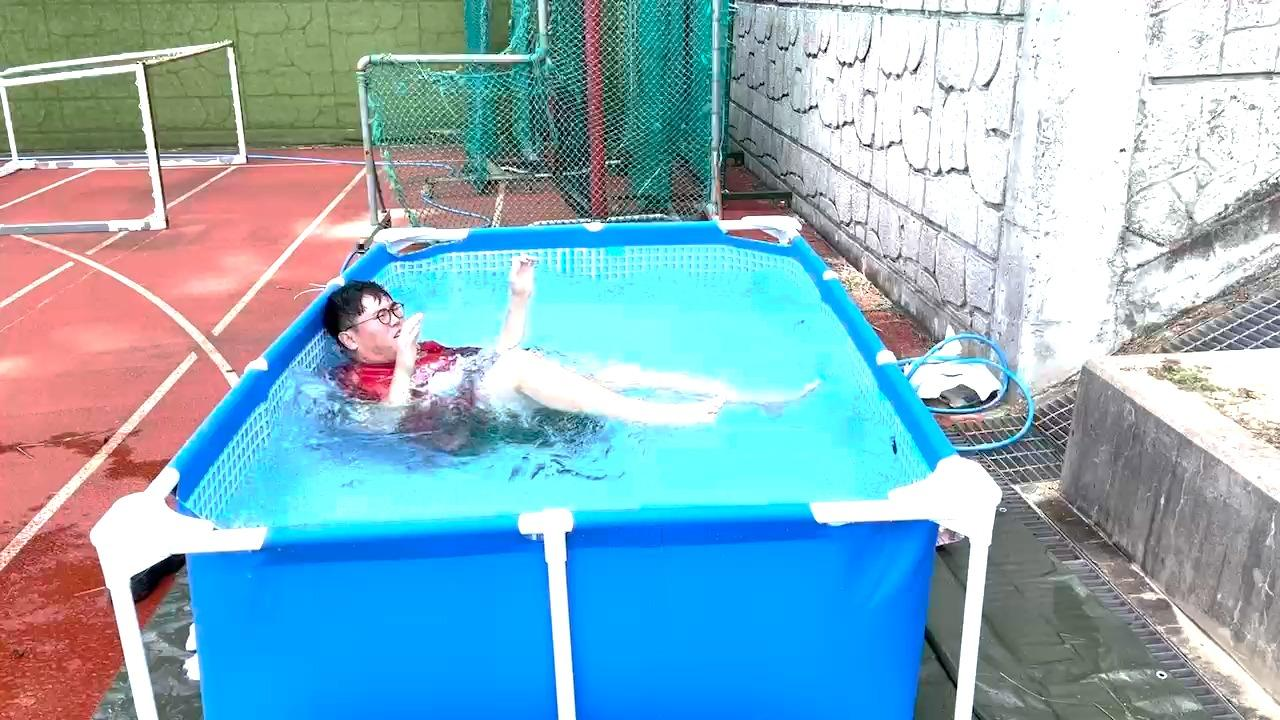Drowning: (326, 273, 740, 440)
